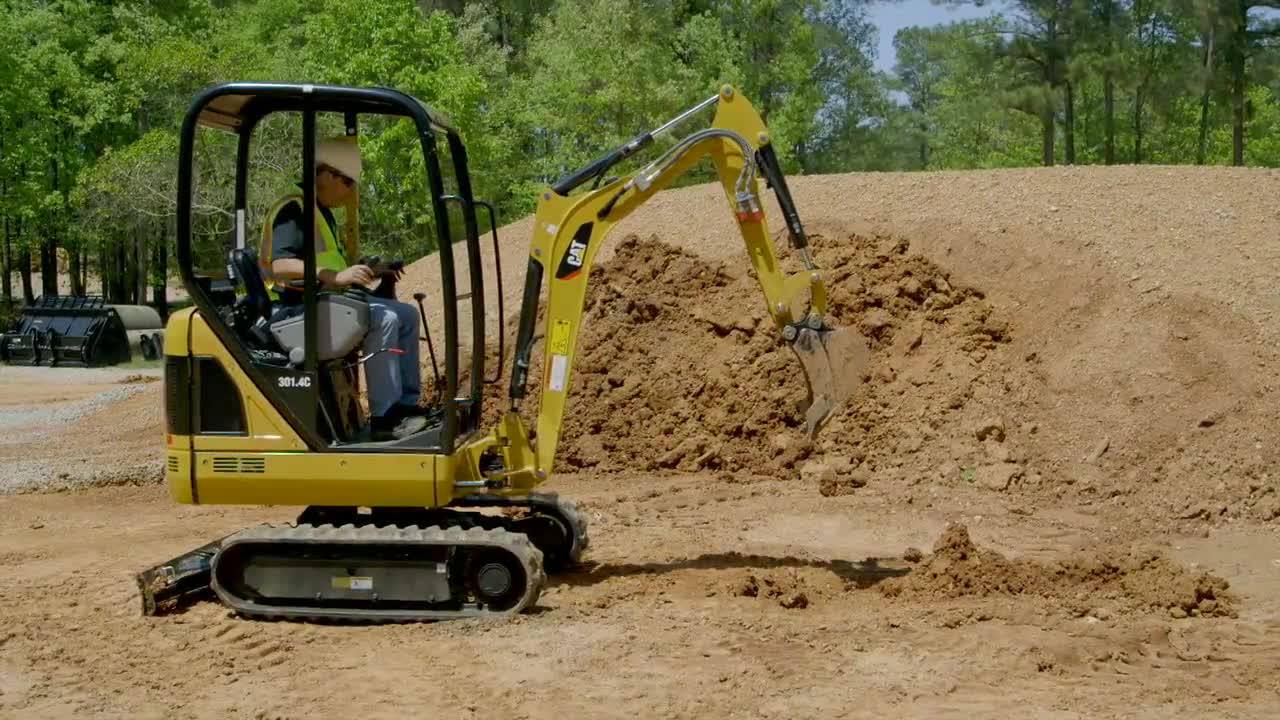attachment-bucket: (781, 319, 873, 442)
cabin: (164, 73, 490, 508)
forearm: (709, 86, 821, 325)
upperarm: (494, 131, 723, 494)
wheelbase: (208, 497, 590, 623)
